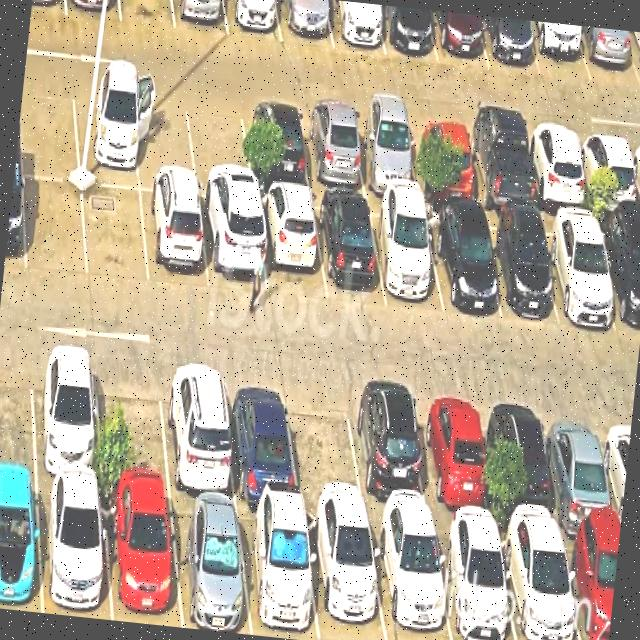empty: (285, 378, 365, 514), (95, 354, 170, 493), (185, 95, 253, 202), (82, 184, 148, 286), (133, 90, 197, 194), (23, 177, 87, 277), (19, 77, 79, 180), (0, 344, 35, 476), (119, 0, 175, 29)
occupied: (346, 384, 432, 520), (168, 496, 251, 635), (101, 489, 182, 627), (237, 503, 318, 640), (414, 389, 493, 527), (305, 509, 386, 640), (37, 480, 112, 620), (543, 400, 619, 536), (161, 362, 235, 500), (223, 370, 299, 504), (369, 519, 451, 640), (31, 346, 102, 485), (489, 394, 561, 531), (433, 522, 516, 640), (498, 527, 579, 640), (539, 213, 618, 327), (424, 208, 501, 318), (478, 213, 557, 319), (368, 201, 443, 312), (313, 194, 385, 303), (256, 189, 326, 300), (72, 83, 139, 189), (140, 191, 209, 289), (199, 199, 267, 296), (463, 122, 536, 211), (561, 532, 619, 640), (408, 117, 477, 204), (241, 102, 310, 189), (351, 111, 420, 195), (299, 106, 366, 192), (524, 126, 590, 211), (0, 478, 41, 612), (576, 130, 640, 215), (595, 218, 640, 336), (575, 25, 640, 86), (526, 20, 591, 81), (480, 15, 540, 74), (376, 4, 437, 61), (430, 10, 488, 67), (325, 0, 384, 54), (276, 0, 332, 45), (223, 0, 281, 41), (4, 171, 25, 272), (172, 0, 228, 36), (65, 0, 120, 21), (31, 0, 66, 15)
